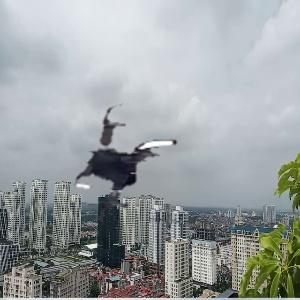drone: (63, 100, 200, 237)
